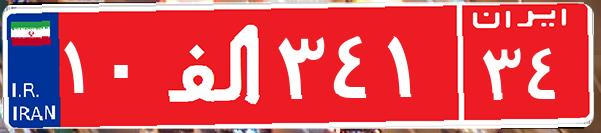0: (110, 28, 158, 105)
1: (385, 28, 445, 110), (57, 26, 110, 107)
3: (273, 28, 330, 110), (475, 38, 525, 113)
4: (330, 28, 385, 110), (525, 38, 570, 115)
الف: (158, 15, 273, 115)
